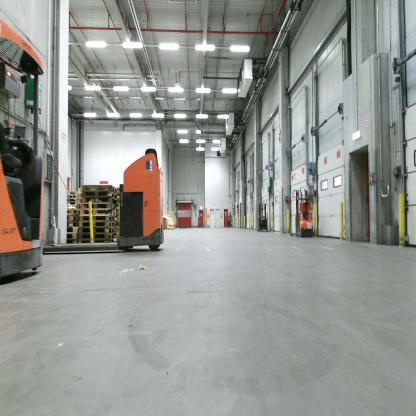forklift: (2, 13, 46, 291)
pallet: (83, 184, 118, 196), (81, 201, 117, 211), (82, 196, 118, 205), (77, 221, 115, 229), (79, 227, 115, 235), (79, 215, 115, 223), (76, 210, 116, 217), (78, 233, 115, 240), (82, 191, 119, 198), (78, 240, 115, 246), (64, 233, 80, 241), (65, 239, 78, 246), (65, 227, 80, 233), (67, 190, 77, 198), (67, 208, 78, 215), (67, 215, 78, 222), (67, 202, 77, 208), (65, 222, 77, 227), (76, 191, 83, 197), (76, 197, 83, 203), (67, 198, 77, 202)
pallet_truck: (40, 144, 170, 269), (284, 188, 316, 241), (256, 201, 272, 237), (223, 211, 235, 231)
